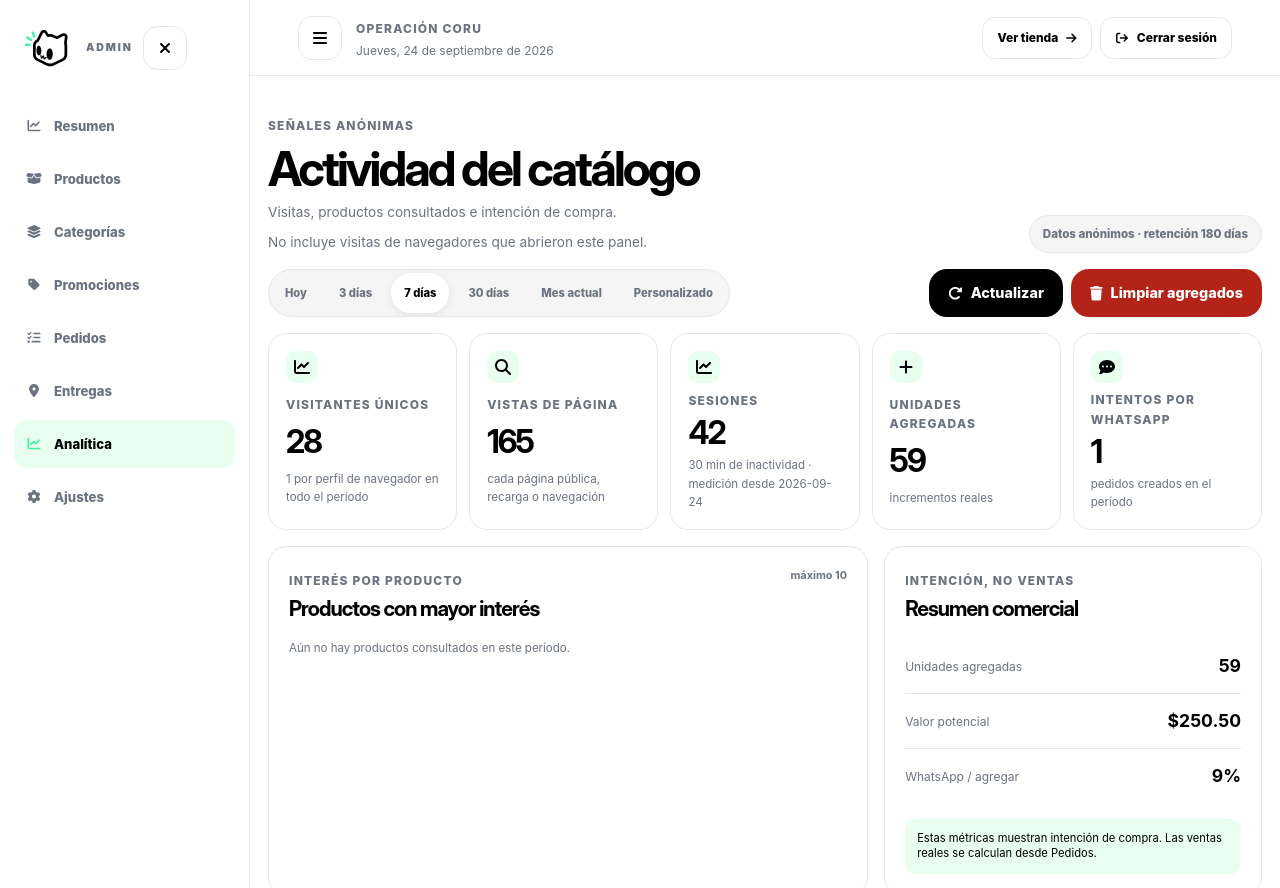
Test: Admin operational shell › clears only cart-add analytics after confirmation and refreshes the dashboard
The image size is (1280, 888).
Expected: the text "Visitantes únicos" shows "28", left=286, top=422, right=321, bottom=461
Expected: the text "Visitantes únicos" shows "1 por perfil de navegador en todo el período", left=286, top=472, right=438, bottom=504
Step 1. Click the button "Limpiar agregados" → (1166, 294), box left=1071, top=270, right=1262, bottom=318
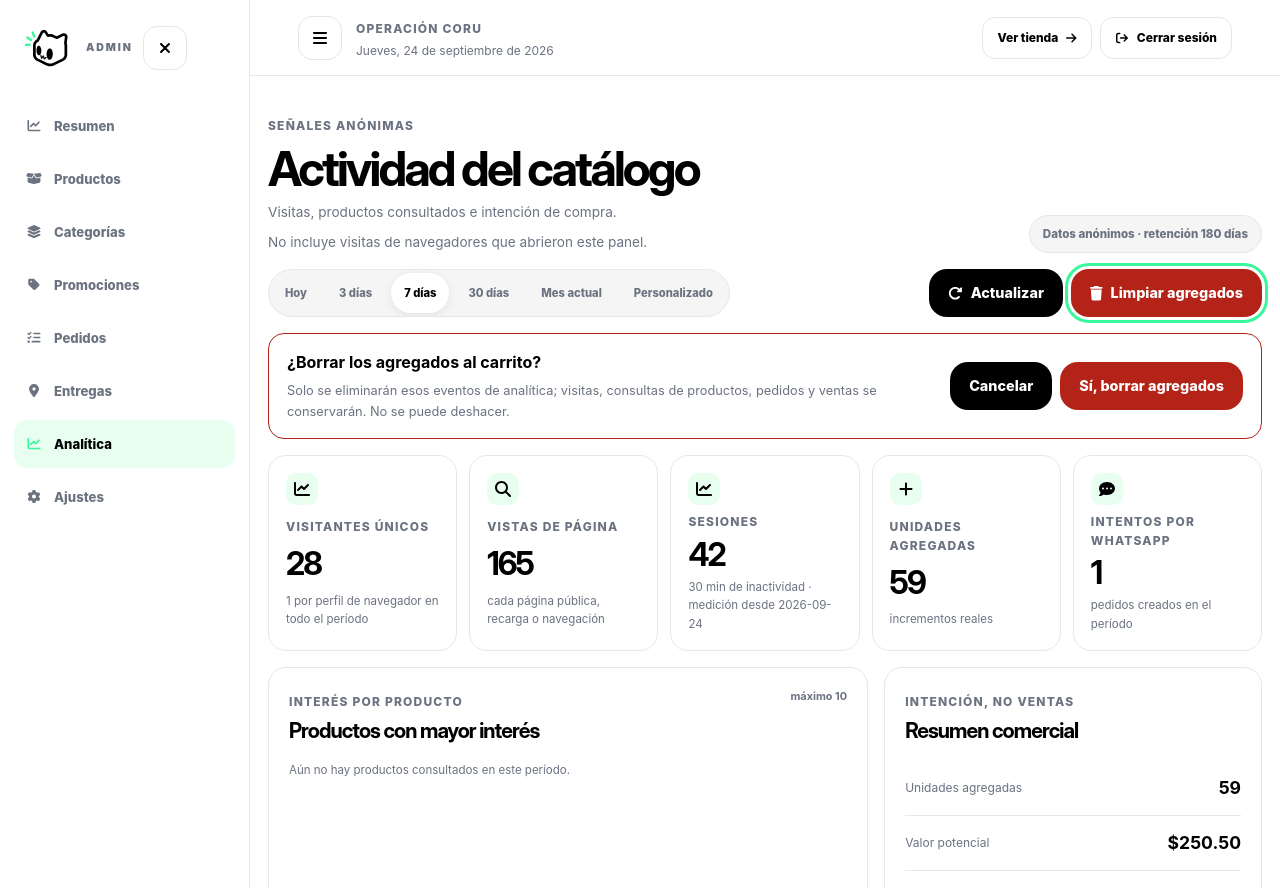
Expected: the dialog shows "visitas, consultas de productos, pedidos y ventas se conservarán", left=287, top=383, right=877, bottom=419
Step 2. Click the button "Sí, borrar agregados" → (1152, 386), box left=1060, top=362, right=1243, bottom=410
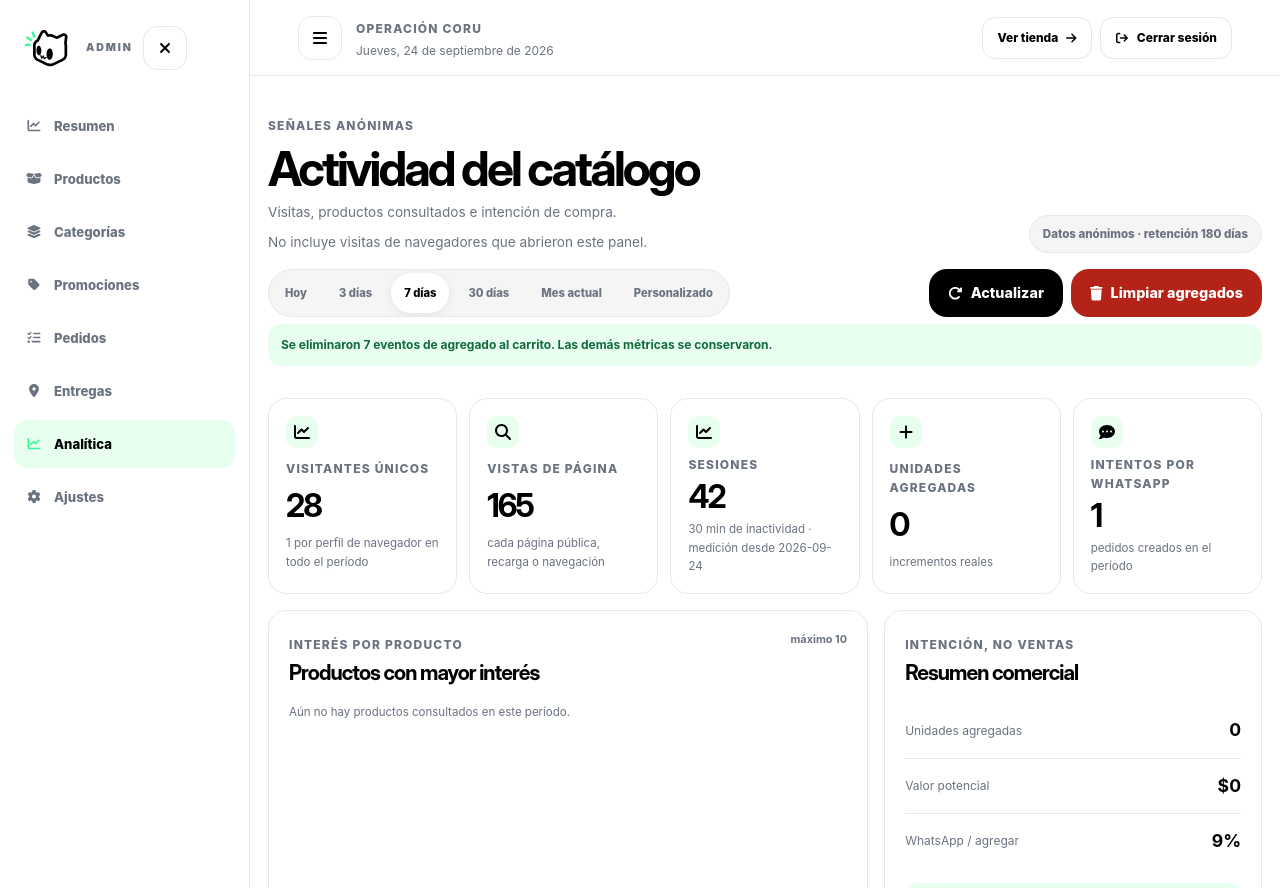
Expected: the text "Unidades agregadas" shows "0", left=890, top=505, right=908, bottom=544
Expected: the message shows "Se eliminaron 7 eventos de agregado al carrito", left=281, top=338, right=772, bottom=352
